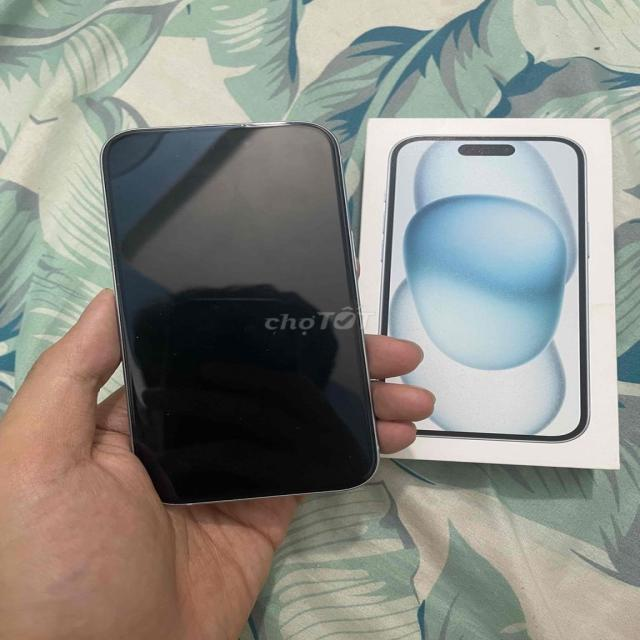gen_15: (82, 114, 398, 505)
